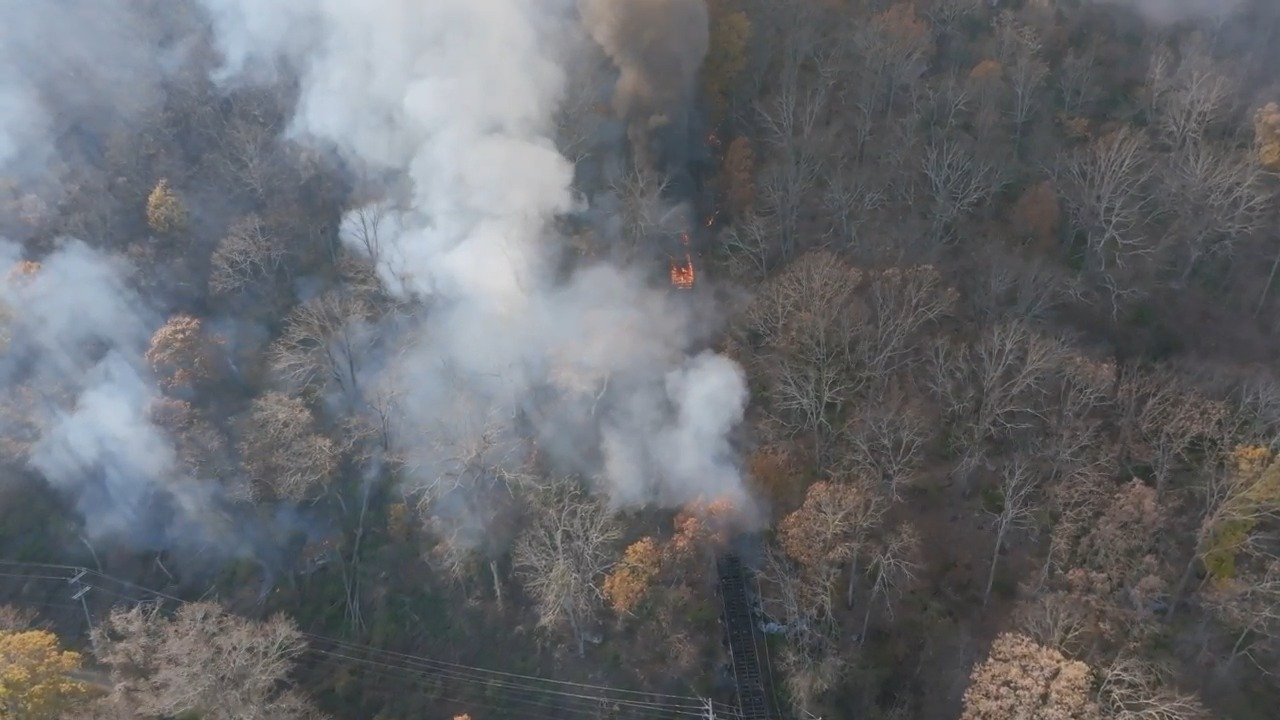fire: (670, 253, 694, 289), (704, 208, 719, 227), (707, 132, 720, 147), (679, 232, 689, 246)
smoke: (204, 0, 747, 504), (0, 240, 246, 552), (0, 0, 190, 186), (578, 0, 708, 171), (578, 0, 708, 120)
